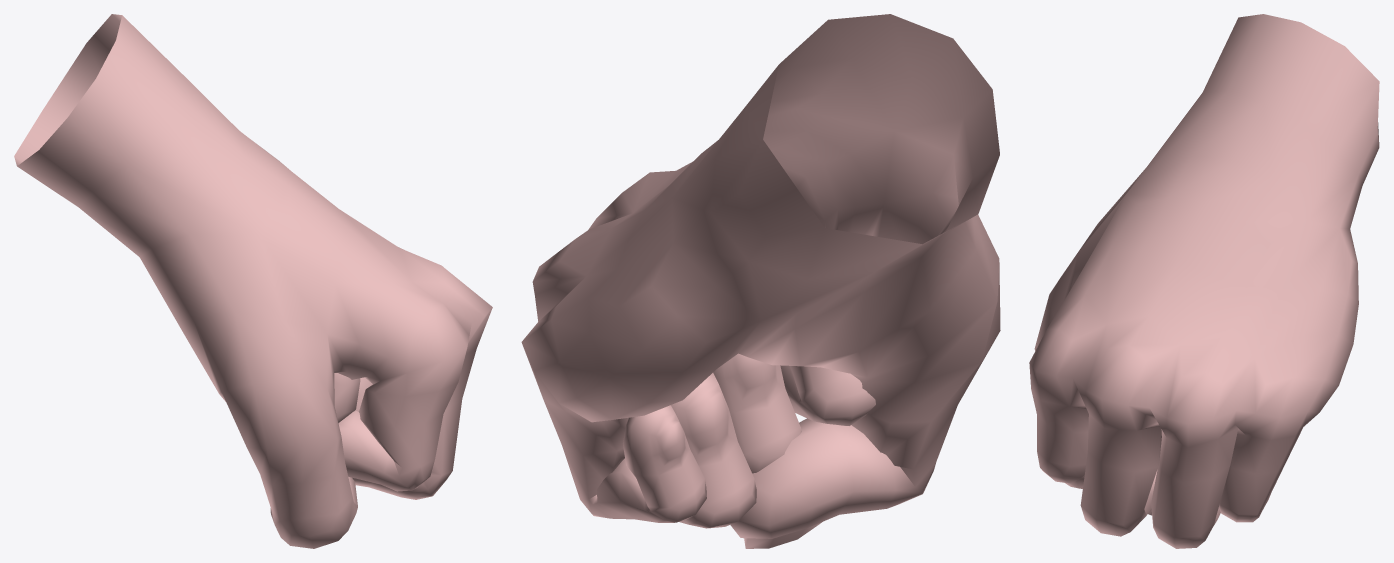
Rendered from Base_Male_A_Fist01.fbx.
3 views of the same model, side by side, from view 1: azimuth 30°, elevation 25°; view 2: azimuth 150°, elevation 25°; view 3: azimuth 270°, elevation 25° (orthographic). The views are drawn at different scales.
Visible parts, largest first — view 1: Base_Male_A_Fist01; view 2: Base_Male_A_Fist01; view 3: Base_Male_A_Fist01.
Boxes of the visible parts, <box> form: Base_Male_A_Fist01: <box>14,14,492,548</box>; Base_Male_A_Fist01: <box>521,14,1000,548</box>; Base_Male_A_Fist01: <box>1029,14,1379,548</box>.
Size of the model in its own units: 0.6942 by 0.8181 by 0.5869.
